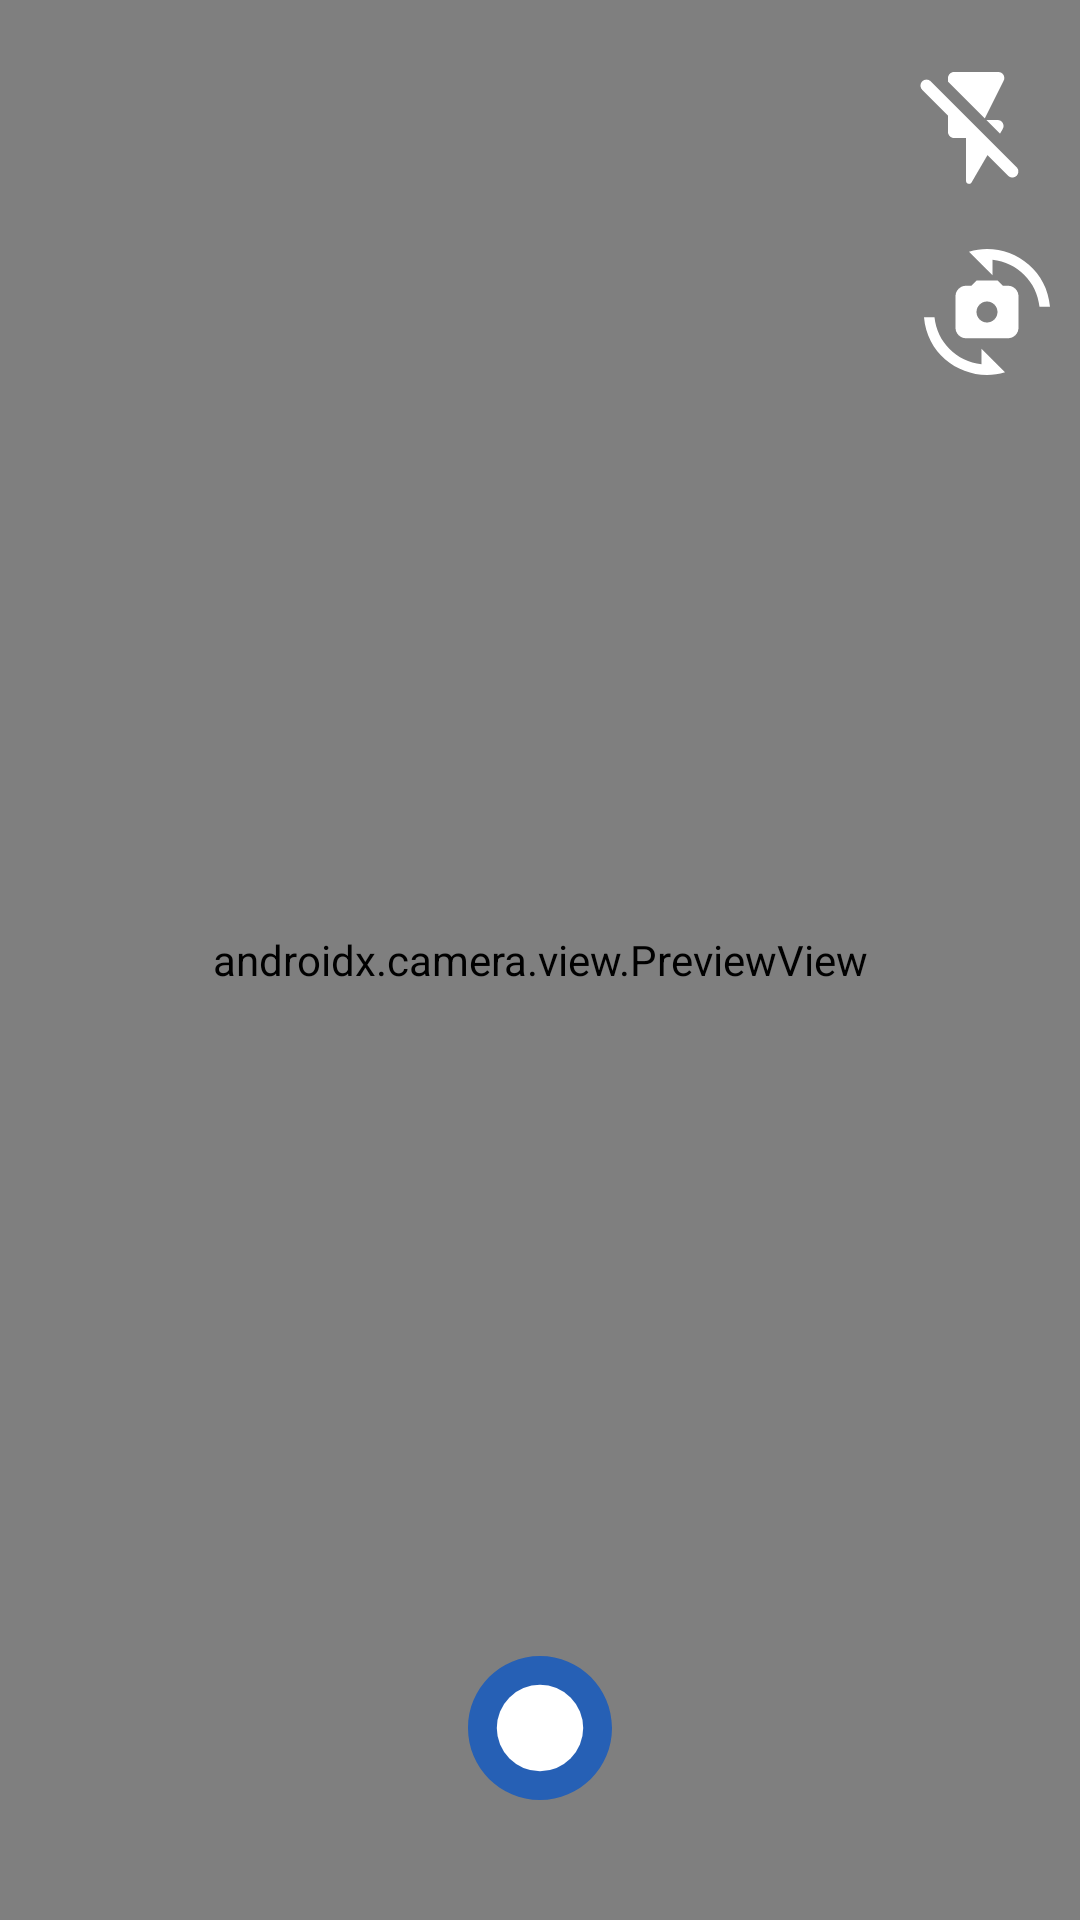

Screen size 1080 x 1920. Icon name, then its box in pixels as (x1, y1, x2, y2):
flash off: (920, 72, 1019, 184)
flip: (924, 249, 1050, 375)
record: (468, 1656, 612, 1800)
